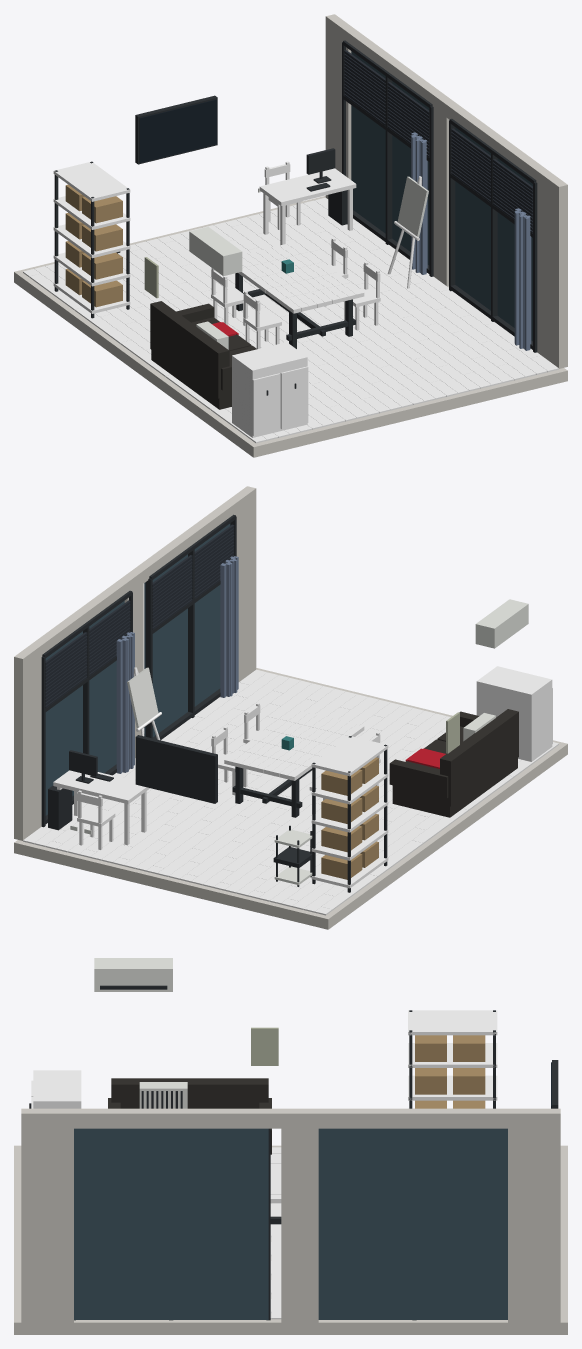
Rendered from office.glb.
3 views of the same model, one above another, from view 1: azimuth 30°, elevation 25°; view 2: azimuth 150°, elevation 25°; view 3: azimuth 270°, elevation 25° (orthographic). The views are drawn at different scales.
Parts seen in each view (by area): view 1: Foundation, Window pane, Right wall pier, Window pane.001, Right window lintel, Sofa back, Television display, Front storage cabinet, Right wall pier.001, Right wall pier.002, Desk top, Wall mounted air conditioner (+31 smaller); view 2: Foundation, Window pane, Window pane.001, Right wall pier.002, Front storage cabinet, Right window lintel, Television frame, Sofa back, Right wall pier, Sofa base, Wall mounted air conditioner, Shelf board.004 (+25 smaller); view 3: Window pane, Window pane.001, Right wall pier.002, Right wall pier, Foundation, Right window lintel, Right wall pier.001, Sofa back, Wall mounted air conditioner, Shelf board.004, Front storage cabinet, Striped pillow (+8 smaller).
Boxes of the visible parts, box(x1,y1,x2,y2) form: Foundation: box(14, 196, 567, 457); Window pane: box(455, 127, 532, 341); Right wall pier: box(537, 168, 567, 368); Window pane.001: box(351, 51, 429, 265); Right window lintel: box(325, 14, 567, 198); Sofa back: box(150, 301, 229, 398); Television display: box(139, 99, 216, 162); Front storage cabinet: box(232, 342, 307, 437); Right wall pier.001: box(430, 93, 449, 286); Right wall pier.002: box(325, 15, 354, 198); Desk top: box(259, 168, 356, 205); Wall mounted air conditioner: box(189, 226, 242, 275); Foundation: box(14, 668, 567, 929); Window pane: box(144, 523, 230, 737); Window pane.001: box(45, 601, 124, 815); Right wall pier.002: box(14, 640, 45, 840); Front storage cabinet: box(476, 666, 552, 761); Right window lintel: box(14, 486, 255, 662); Television frame: box(135, 735, 217, 803); Sofa back: box(440, 709, 518, 806); Right wall pier: box(225, 486, 256, 681); Sofa base: box(392, 758, 517, 817); Wall mounted air conditioner: box(475, 599, 528, 648); Shelf board.004: box(311, 736, 388, 776); Window pane: box(74, 1128, 268, 1319); Window pane.001: box(318, 1128, 507, 1319); Right wall pier.002: box(508, 1108, 560, 1323); Right wall pier: box(21, 1108, 73, 1323); Foundation: box(14, 1145, 567, 1334); Right window lintel: box(21, 1108, 560, 1128); Right wall pier.001: box(281, 1108, 318, 1323); Sofa back: box(111, 1078, 268, 1108); Wall mounted air conditioner: box(94, 958, 172, 991); Shelf board.004: box(408, 1010, 497, 1035); Front storage cabinet: box(33, 1070, 81, 1108); Striped pillow: box(139, 1082, 187, 1108).
Bounding box in the file's own units: 5.66 × 3.29 × 7.4.
